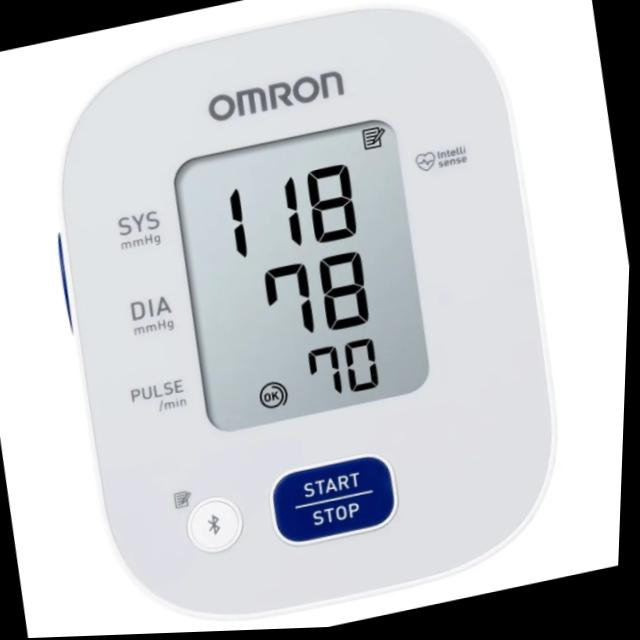dia: (249, 247, 384, 348)
pul: (299, 331, 394, 406)
ssd: (169, 119, 437, 437)
sys: (203, 153, 374, 270)
